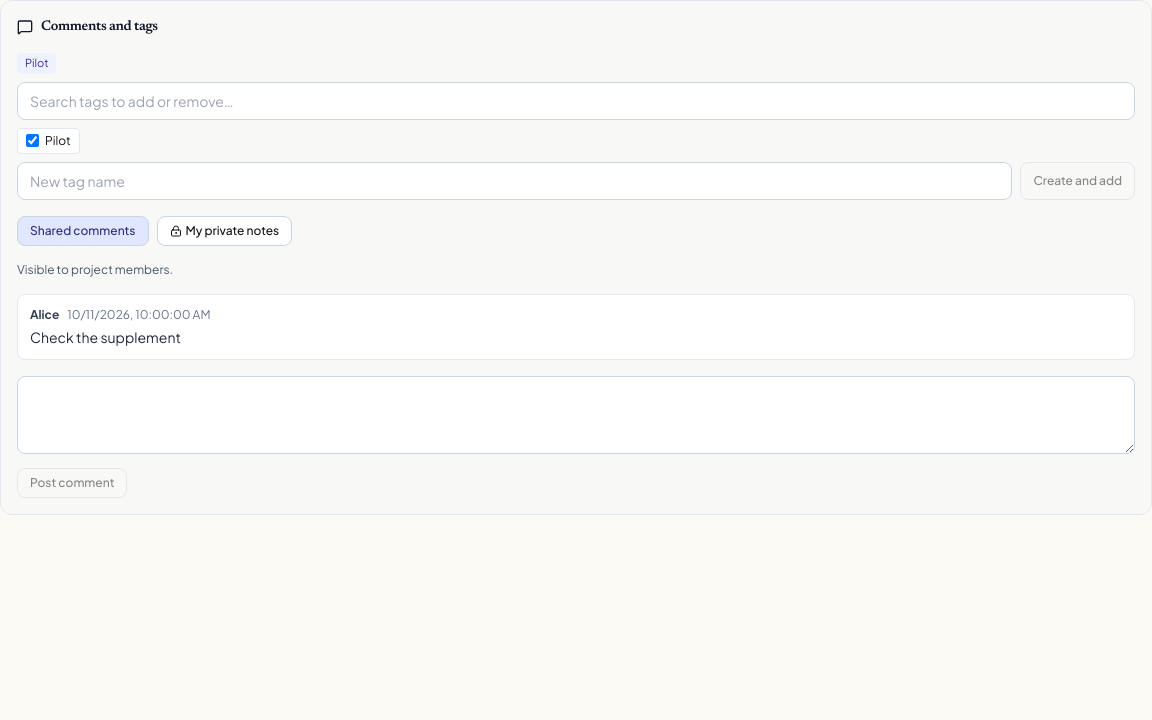
Test: record comments, notes and tags › shows author and timestamp, then saves a private note with its real visibility
The width and height of the screenshot is (1152, 720).
expect the text "Check the supplement" is shown: met, box [30,328,181,346]
expect the text "Alice" is shown: met, box [30,306,59,322]
Click the button "My private notes".
click(224, 230)  # box [156,216,292,246]
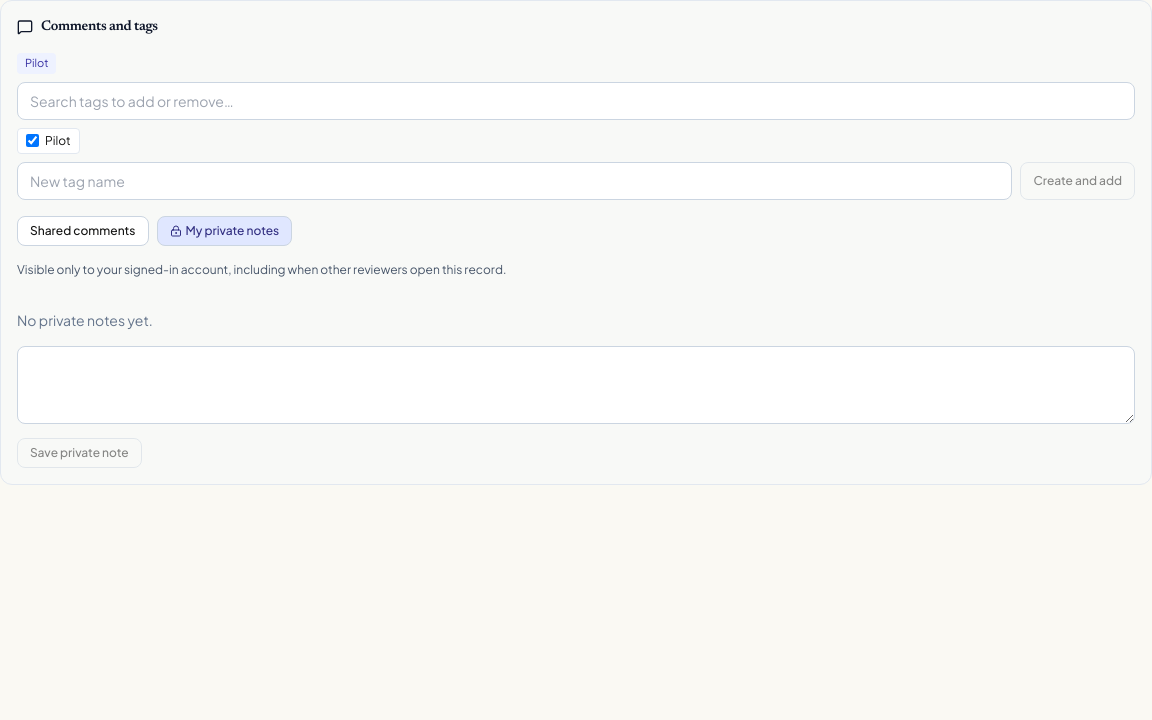
expect the text "Check the supplement" is gone: met
Type "My assessment" into the text box named "Write a private note".
click(576, 384); type("My assessment")  # box [17,346,1135,424]
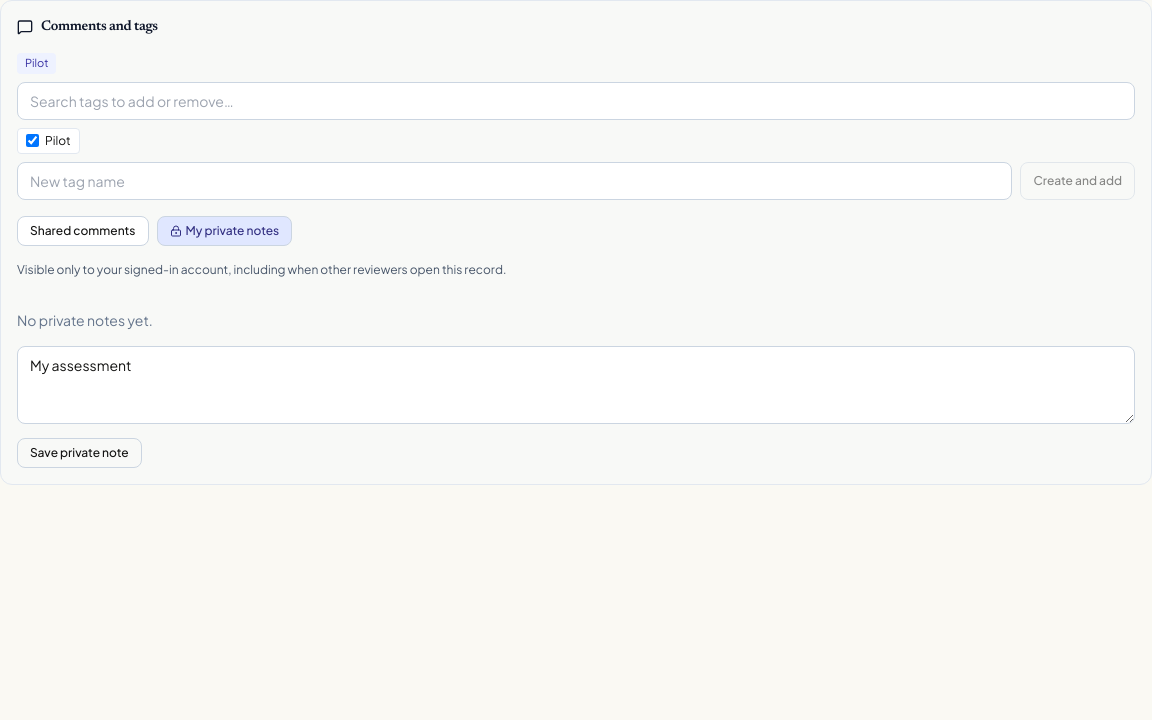
Click the button "Save private note".
click(79, 452)  # box [17,438,142,468]
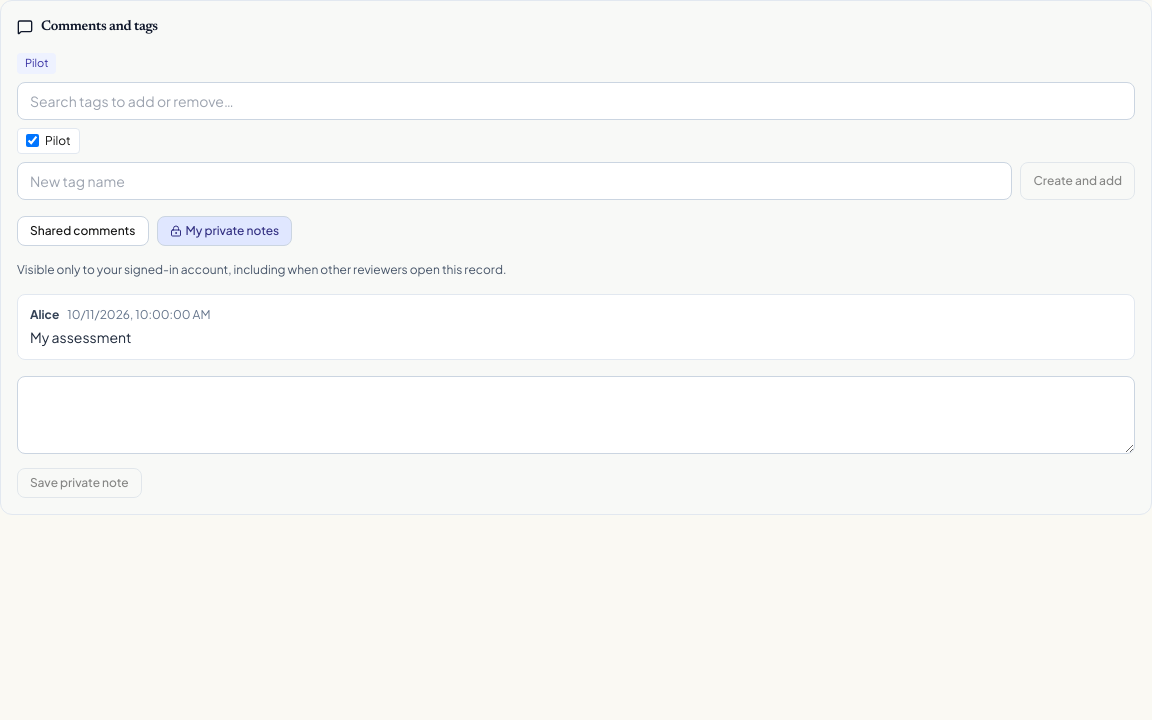
expect the text "My assessment" is shown: met, box [30,328,132,346]
expect the text box named "Write a private note" is empty: met, box [17,376,1135,454]
